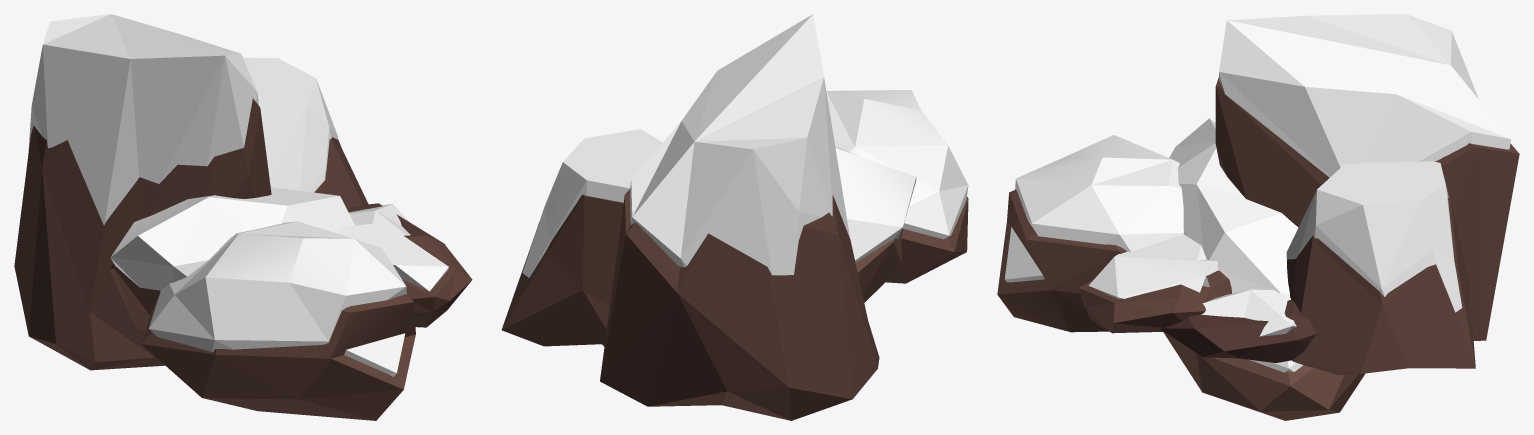
File: snow_rock_019.fbx
3 views of the same model, side by side, from view 1: azimuth 30°, elevation 25°; view 2: azimuth 150°, elevation 25°; view 3: azimuth 270°, elevation 25° (orthographic). The views are drawn at different scales.
Parts seen in each view (by area): view 1: snow_rock_019; view 2: snow_rock_019; view 3: snow_rock_019.
Part boxes in pixels (left/top/right/bottom): snow_rock_019: left=14, top=14, right=472, bottom=420; snow_rock_019: left=501, top=14, right=968, bottom=420; snow_rock_019: left=997, top=14, right=1519, bottom=420.
Size of the model in its own units: 437 by 616 by 426.
